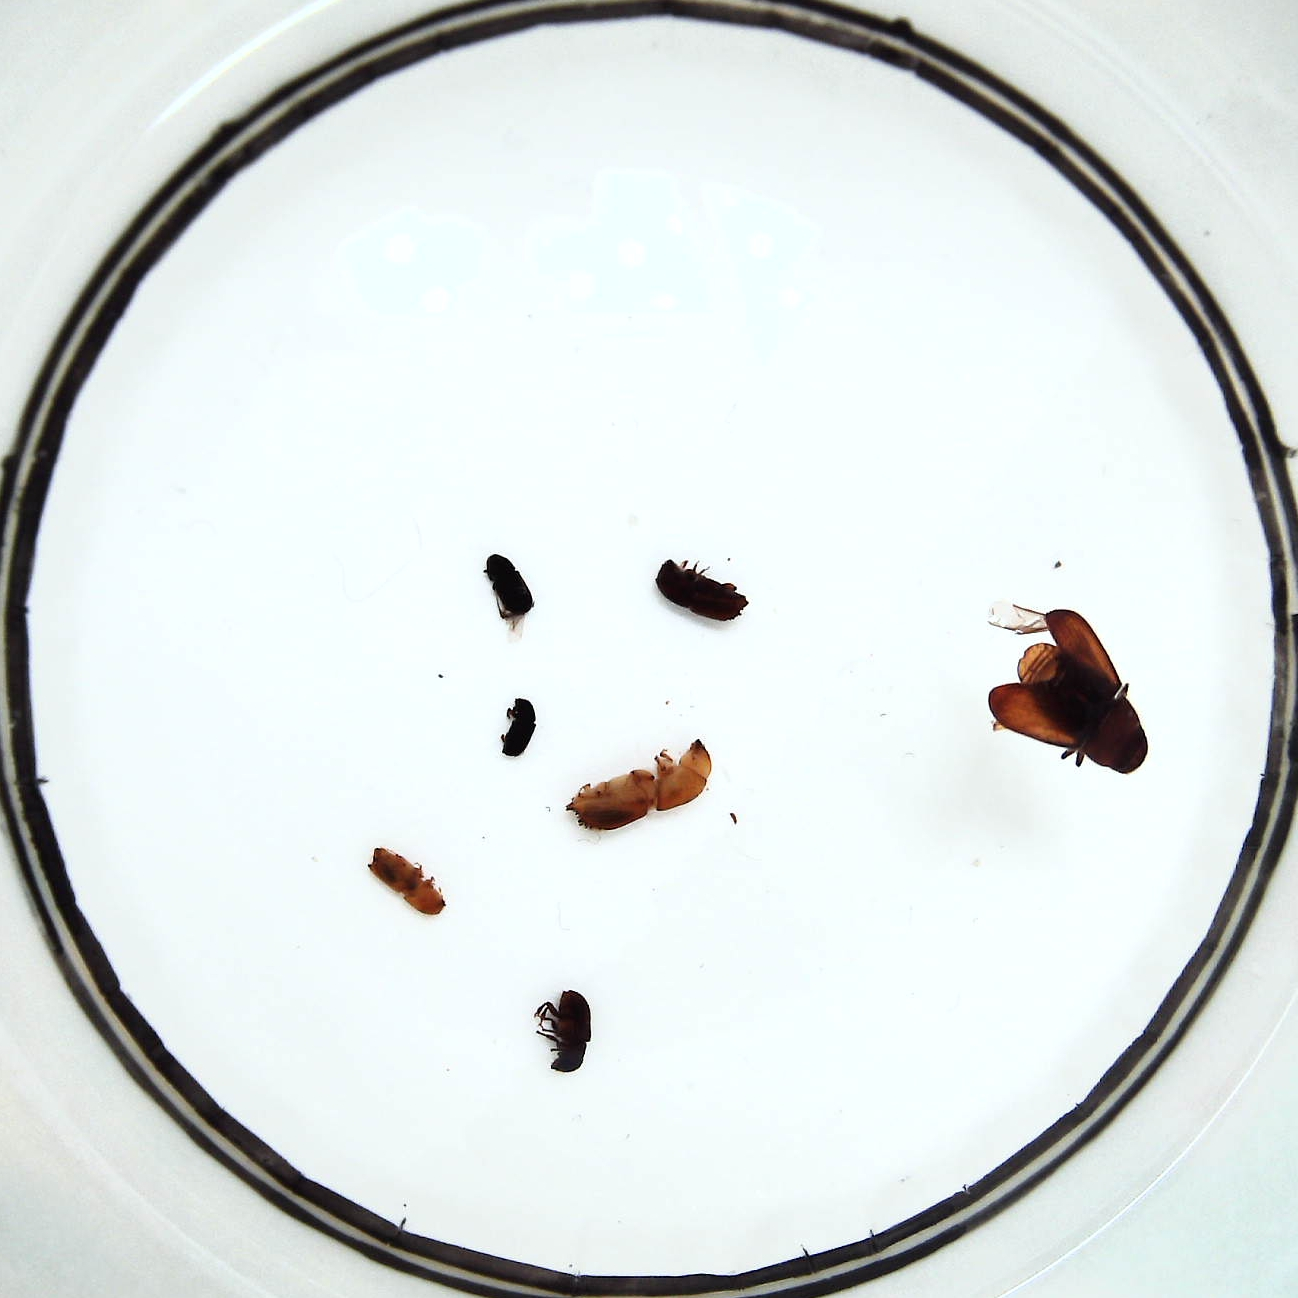Boerner: (573, 738, 711, 831)
Leconte: (985, 606, 1146, 768)
Linnaeus: (657, 559, 748, 625)
acuminatus: (367, 848, 446, 913)
armandi: (538, 991, 591, 1075)
coleoptera: (484, 552, 533, 616), (499, 694, 538, 760)
